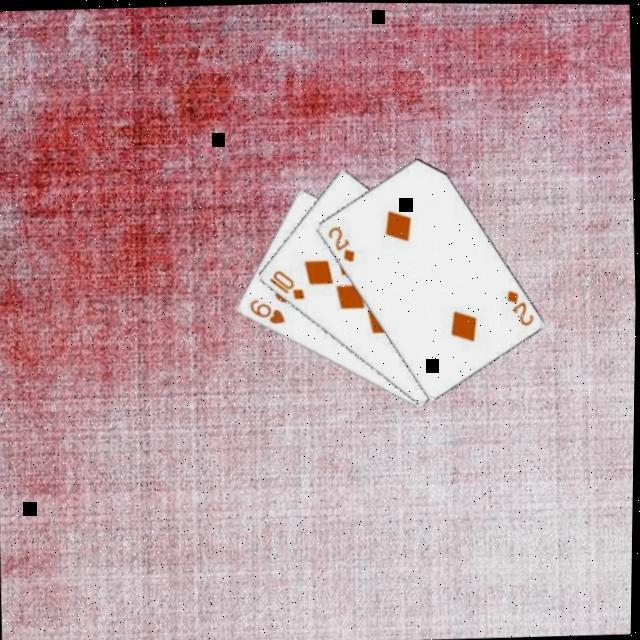10D: (267, 267, 309, 304)
2D: (504, 286, 538, 330), (326, 224, 360, 266)
6H: (248, 296, 290, 328)
